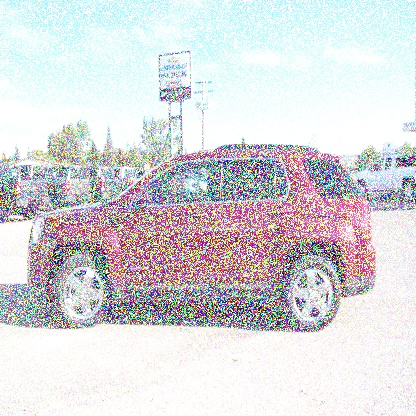Vehicle: (26, 146, 378, 331)
